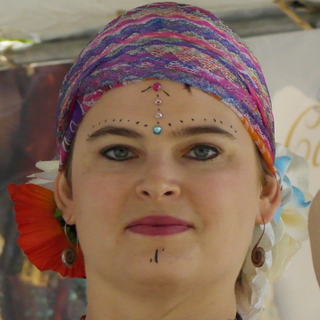eye: (93, 136, 143, 169), (172, 138, 227, 168)
